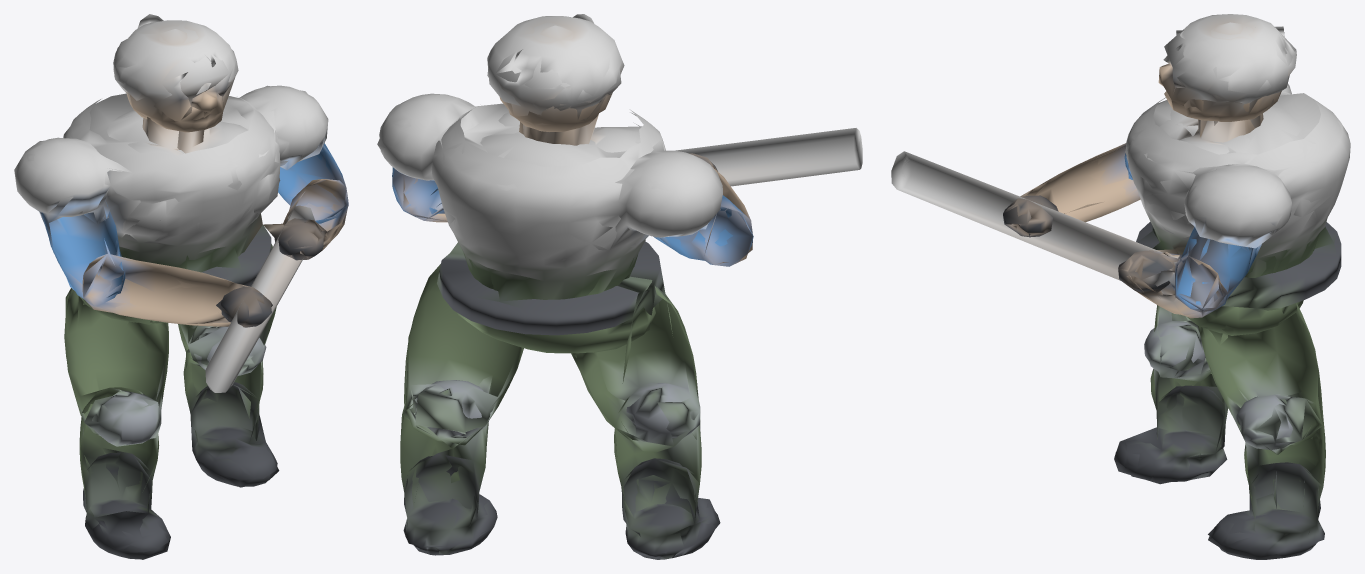
File: security_gate.glb
3 renders of one model, left to right at view 1: azimuth 30°, elevation 25°; view 2: azimuth 150°, elevation 25°; view 3: azimuth 270°, elevation 25°, orthographic. The views are drawn at different scales.
Parts seen in each view (by area): view 1: Hull; view 2: Hull; view 3: Hull.
Part boxes in pixels (x1,y1,x2,y2): Hull: (14,14,348,559); Hull: (377,14,862,559); Hull: (891,14,1350,559).
Size of the model in its own units: 0.4717 by 0.7089 by 0.5999.
